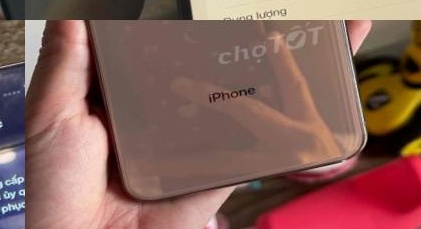scratch: (0, 49, 25, 91)
